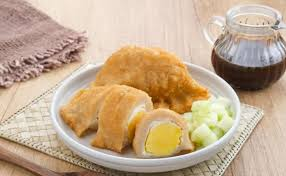Pempek kapal selam: (59, 85, 195, 156), (96, 41, 210, 111)
